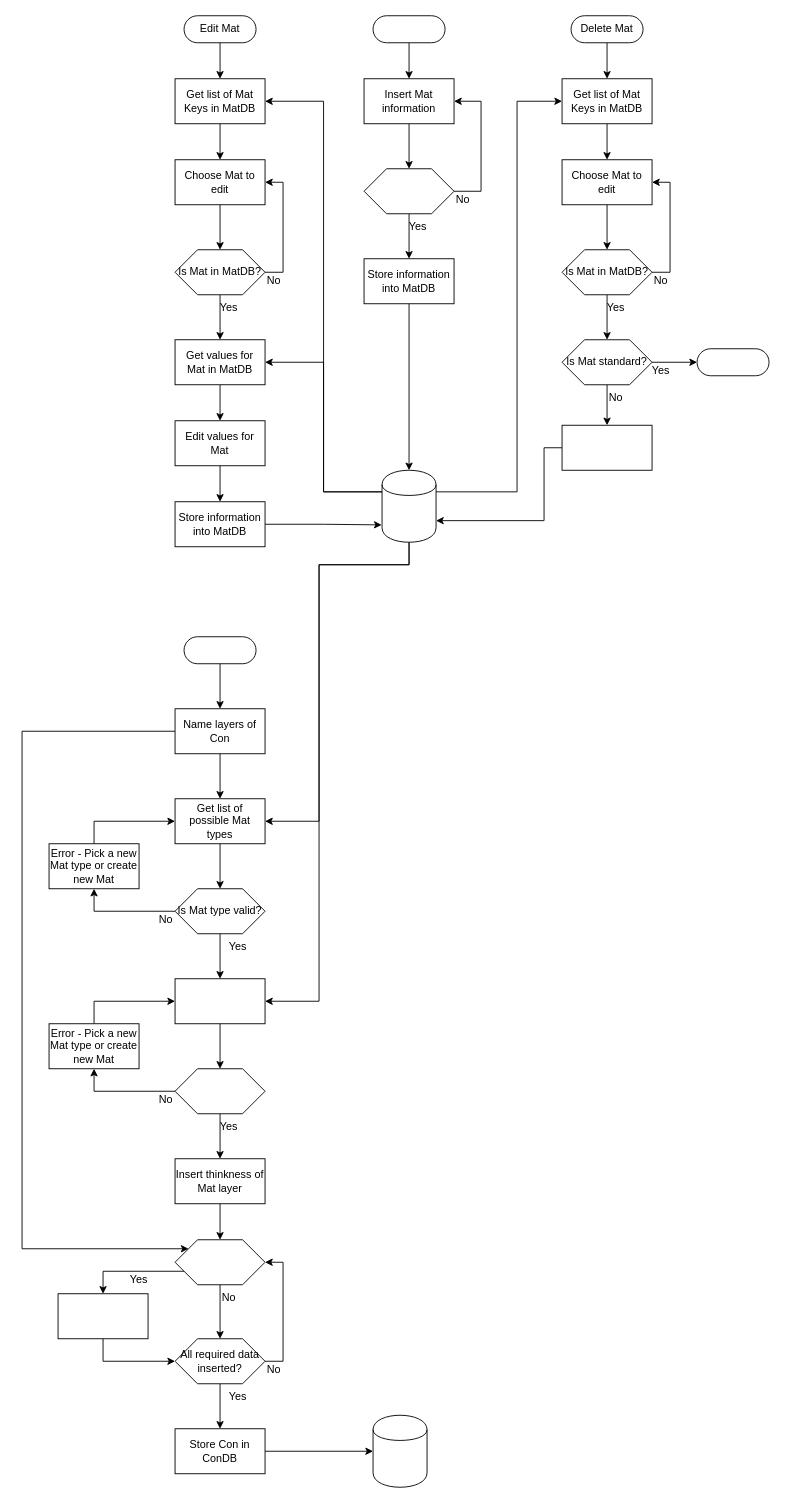
The diagram is 785 pixels wide and 1503 high, and some of its shapes have lost their labels. The centre of each missing label's shape, as x and y in pixels:
"All data inserted?" belongs at point (408, 191).
"ConDB" belongs at point (399, 1450).
"Create Con" belongs at point (219, 650).
"Create Mat" belongs at point (408, 29).
"Delete stored information for Mat in MatDB" belongs at point (606, 447).
"Error - Not possible" belongs at point (732, 362).
"Get list of possible Mats for given type" belongs at point (219, 1001).
"Insert fraction of the different Mats in layer" belongs at point (102, 1316).
"Is Mat valid?" belongs at point (219, 1091).
"Is there multiple Mats in layer?" belongs at point (219, 1262).
"MatDB" belongs at point (408, 505).
